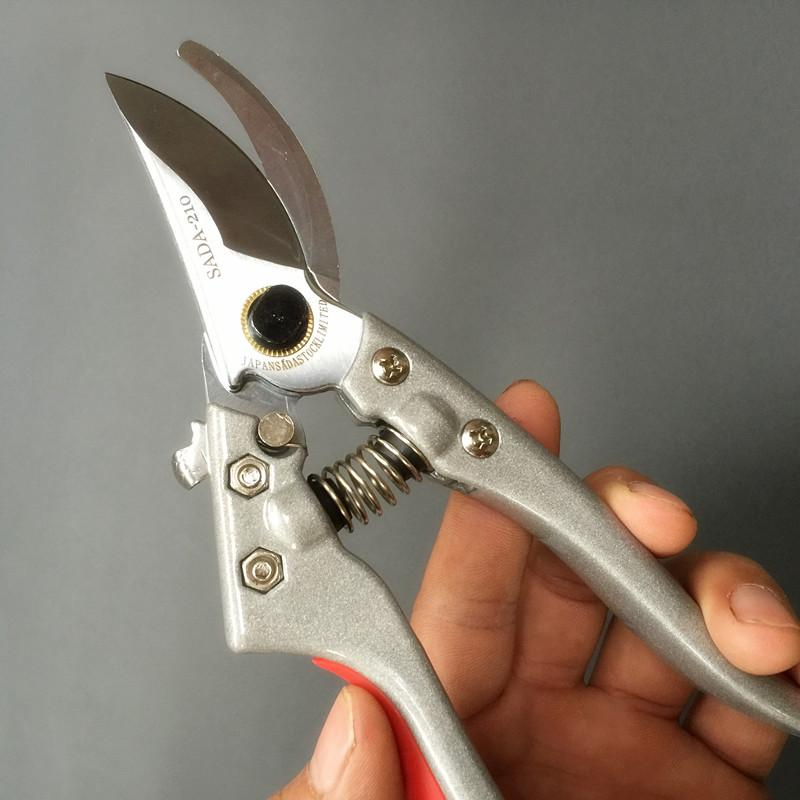scissor: (104, 40, 768, 756)
